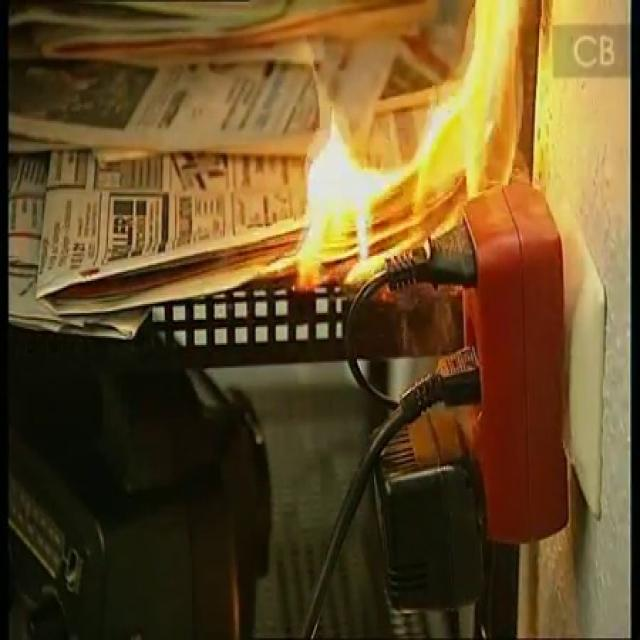fire: (278, 2, 550, 298)
